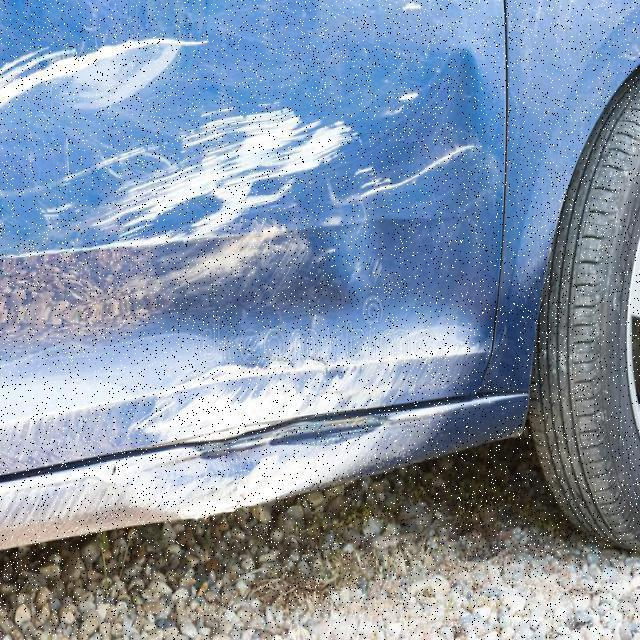RunningBoard-Dent: (0, 415, 515, 513)
doorouter-dent: (0, 0, 493, 407)
